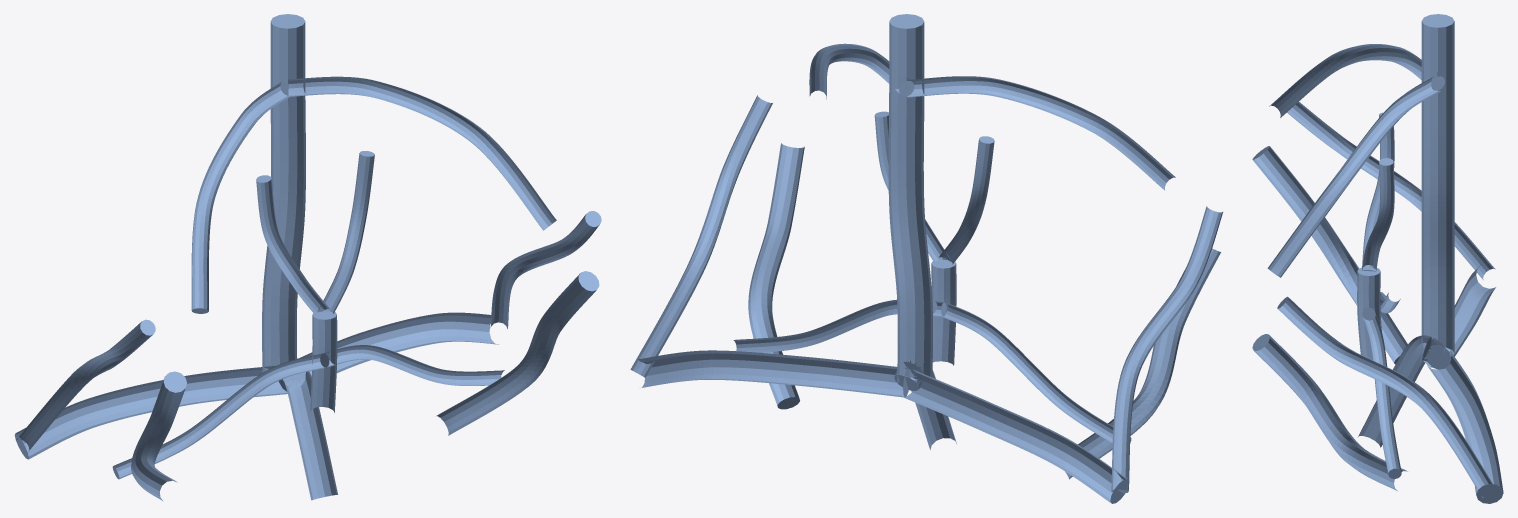
File: venous_balanced.glb
3 renders of one model, left to right at view 1: azimuth 30°, elevation 25°; view 2: azimuth 150°, elevation 25°; view 3: azimuth 270°, elevation 25°, orthographic. The views are drawn at different scales.
Parts seen in each view (by area): view 1: Seio sagital superior, Seio transverso E, Veia de Trolard — D, Cerebral média superficial — D, Veia de Trolard — E, Seio transverso D, Seio reto, Veia basal de Rosenthal — E, Cerebral média superficial — E, Veia de Labbé — E, Veia de Labbé — D, Veia basal de Rosenthal — D (+3 smaller); view 2: Seio sagital superior, Seio transverso D, Seio transverso E, Cerebral média superficial — D, Veia de Labbé — E, Veia de Labbé — D, Veia de Trolard — E, Cerebral média superficial — E, Veia basal de Rosenthal — E, Veia basal de Rosenthal — D, Veia de Trolard — D, Grande veia cerebral (+3 smaller); view 3: Seio sagital superior, Veia de Labbé — D, Cerebral média superficial — D, Veia de Trolard — D, Cerebral média superficial — E, Seio transverso D, Veia de Trolard — E, Veia de Labbé — E, Seio transverso E, Veia basal de Rosenthal — D, Seio reto, Veia cerebral interna — D (+3 smaller).
Part boxes in pixels (x1=…): Seio sagital superior: x1=262, y1=14, x2=305, y2=372; Seio transverso E: x1=14, y1=365, x2=287, y2=459; Veia de Trolard — D: x1=288, y1=76, x2=556, y2=230; Cerebral média superficial — D: x1=436, y1=271, x2=599, y2=435; Veia de Trolard — E: x1=191, y1=82, x2=291, y2=313; Seio transverso D: x1=278, y1=312, x2=498, y2=391; Seio reto: x1=283, y1=371, x2=337, y2=500; Veia basal de Rosenthal — E: x1=112, y1=353, x2=325, y2=479; Cerebral média superficial — E: x1=131, y1=371, x2=186, y2=501; Veia de Labbé — E: x1=16, y1=319, x2=155, y2=450; Veia de Labbé — D: x1=490, y1=211, x2=601, y2=328; Veia basal de Rosenthal — D: x1=320, y1=345, x2=504, y2=385; Seio sagital superior: x1=888, y1=14, x2=932, y2=383; Seio transverso D: x1=638, y1=350, x2=909, y2=397; Seio transverso E: x1=902, y1=369, x2=1128, y2=503; Cerebral média superficial — D: x1=748, y1=143, x2=804, y2=409; Veia de Labbé — E: x1=1111, y1=206, x2=1222, y2=493; Veia de Labbé — D: x1=630, y1=95, x2=772, y2=377; Veia de Trolard — E: x1=906, y1=76, x2=1175, y2=190; Cerebral média superficial — E: x1=1065, y1=248, x2=1220, y2=479; Veia basal de Rosenthal — E: x1=941, y1=303, x2=1131, y2=443; Veia basal de Rosenthal — D: x1=733, y1=299, x2=946, y2=352; Veia de Trolard — D: x1=809, y1=43, x2=914, y2=99; Grande veia cerebral: x1=931, y1=260, x2=956, y2=365; Seio sagital superior: x1=1421, y1=14, x2=1454, y2=353; Veia de Labbé — D: x1=1277, y1=296, x2=1492, y2=497; Cerebral média superficial — D: x1=1252, y1=334, x2=1407, y2=491; Veia de Trolard — D: x1=1267, y1=77, x2=1440, y2=277; Cerebral média superficial — E: x1=1252, y1=146, x2=1407, y2=364; Seio transverso D: x1=1427, y1=350, x2=1503, y2=503; Veia de Trolard — E: x1=1269, y1=44, x2=1444, y2=117; Veia de Labbé — E: x1=1287, y1=102, x2=1495, y2=280; Seio transverso E: x1=1425, y1=265, x2=1495, y2=369; Veia basal de Rosenthal — D: x1=1363, y1=314, x2=1401, y2=478; Seio reto: x1=1358, y1=335, x2=1444, y2=447; Veia cerebral interna — D: x1=1362, y1=158, x2=1394, y2=270.
Size of the model in its own units: 6.18 by 5.46 by 2.91.
